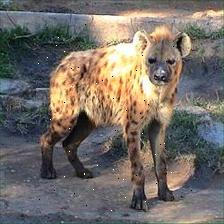hyena: (37, 24, 193, 212)
